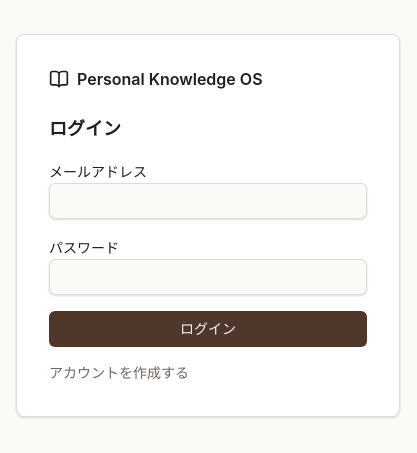
Test case: ログイン画面 › 認証エラーがrole=alertで表示される
Type "test@example.com" into the field labelled "メールアドレス" at (208, 200), box [49,182,367,218]
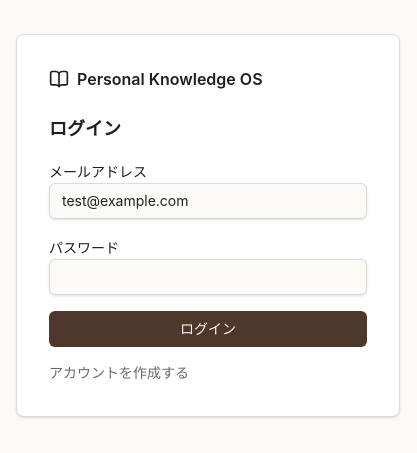
Type "wrong-password" into the password field labelled "パスワード" at (208, 276), box [49,258,367,294]
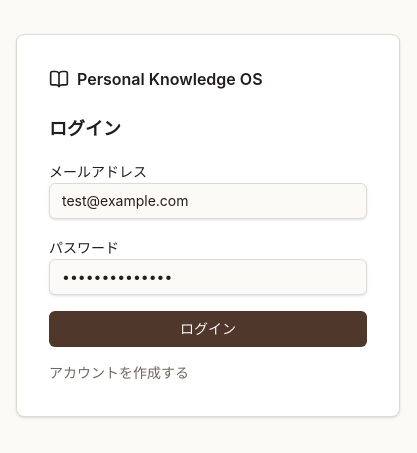
Click the button "ログイン" at (208, 328), box [49,310,367,346]
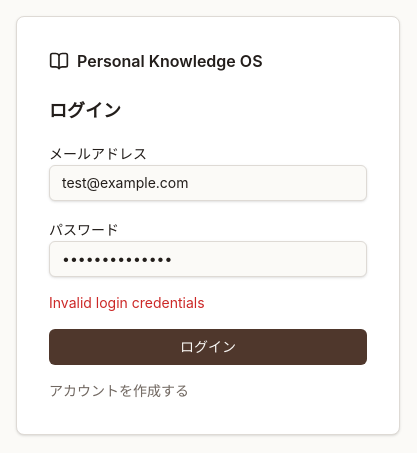
Result: the message reads "Invalid login credentials" at [49,294,205,310]
